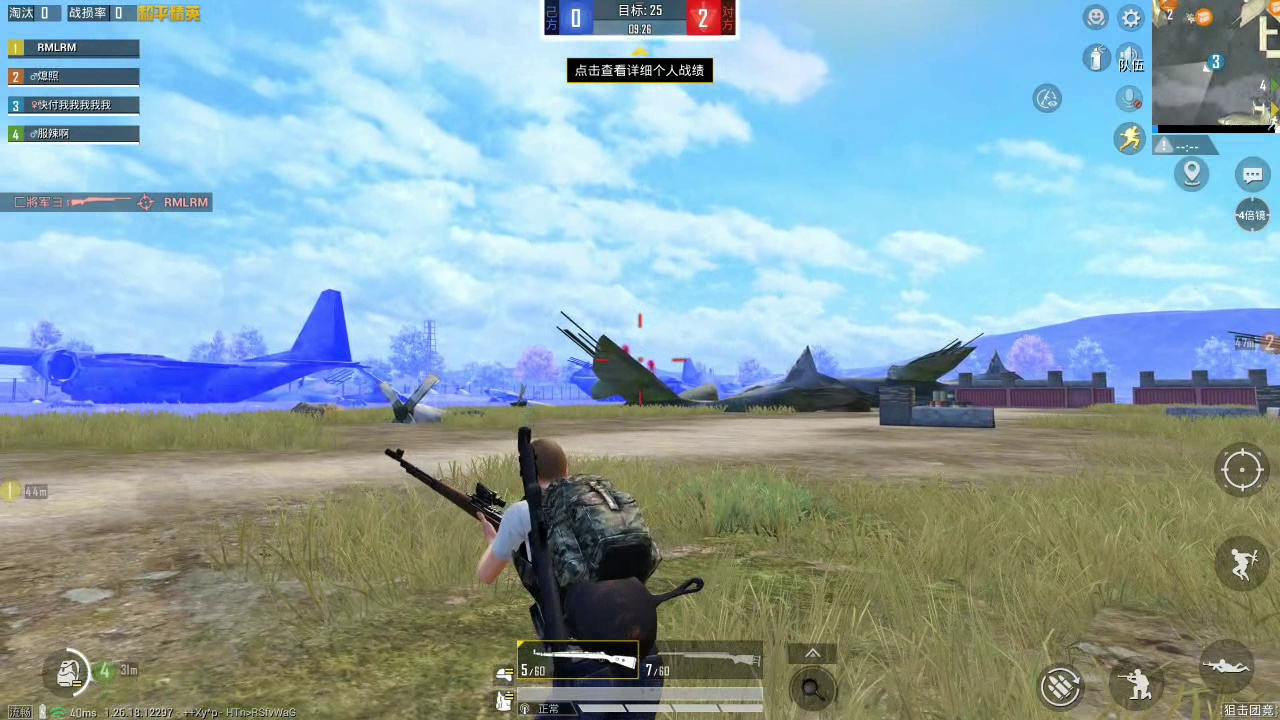enemy: (621, 343, 630, 355), (649, 358, 656, 372)
